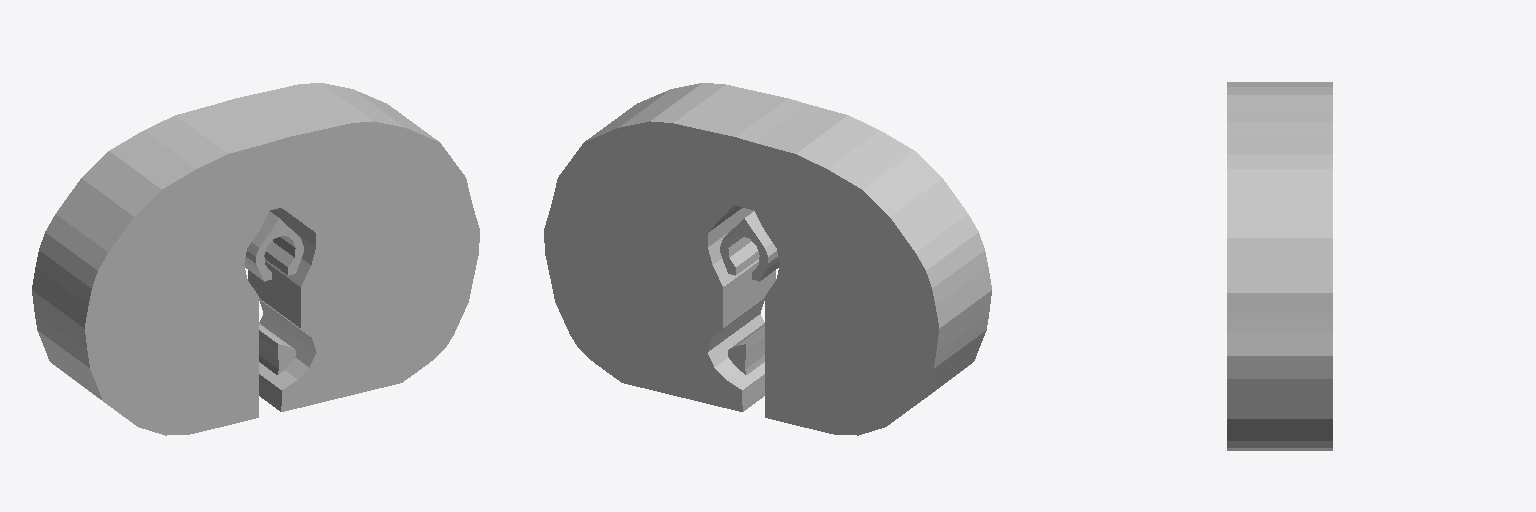
File: CAKE_2.OBJ
The picture shows the model from 3 angles: view 1: azimuth 30°, elevation 25°; view 2: azimuth 150°, elevation 25°; view 3: azimuth 270°, elevation 25°; orthographic projection.
Visible parts, largest first — view 1: Group3709, Group34929, Group6360, Group34932, Group21601, Group18950; view 2: Group3709, Group34929, Group6360, Group34932, Group21601, Group18950; view 3: Group34929.
Part boxes in pixels (x1,y1,x2,y2): Group3709: (96, 133, 468, 427); Group34929: (32, 83, 438, 416); Group6360: (184, 234, 386, 366); Group34932: (85, 121, 479, 435); Group21601: (244, 208, 315, 363); Group18950: (253, 205, 316, 408); Group3709: (555, 133, 927, 427); Group34929: (585, 83, 991, 416); Group6360: (637, 234, 839, 366); Group34932: (544, 121, 938, 435); Group21601: (708, 208, 779, 363); Group18950: (707, 205, 770, 408); Group34929: (1227, 82, 1332, 450).
Size of the model in its own units: 3.22 by 2.13 by 0.7461.